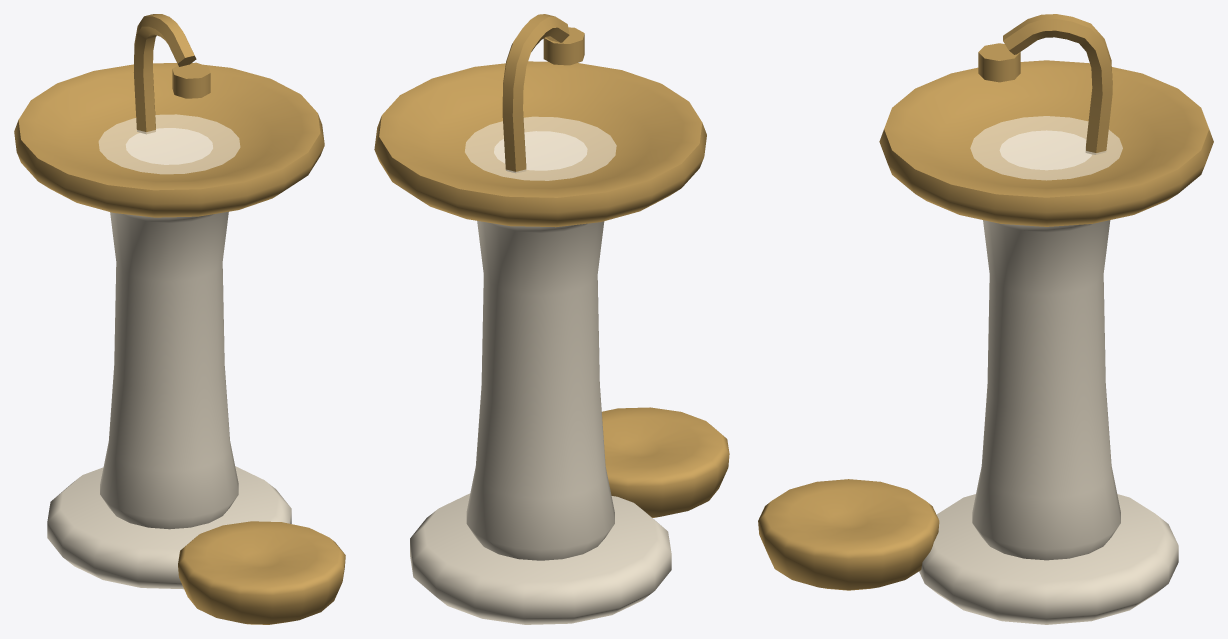
The model's file is drinking_fountain.glb.
3 renders of one model, left to right at view 1: azimuth 30°, elevation 25°; view 2: azimuth 150°, elevation 25°; view 3: azimuth 270°, elevation 25°, orthographic. The views are drawn at different scales.
Parts seen in each view (by area): view 1: drinking_fountain; view 2: drinking_fountain; view 3: drinking_fountain.
Boxes of the visible parts, box(x1,y1,x2,y2) form: drinking_fountain: box(14, 14, 345, 624); drinking_fountain: box(374, 14, 729, 624); drinking_fountain: box(758, 14, 1213, 624).
Bounding box in the file's own units: 0.71 × 1.31 × 0.9675.
